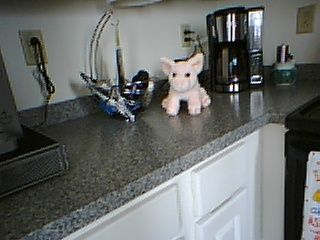piggy: (158, 52, 213, 118)
